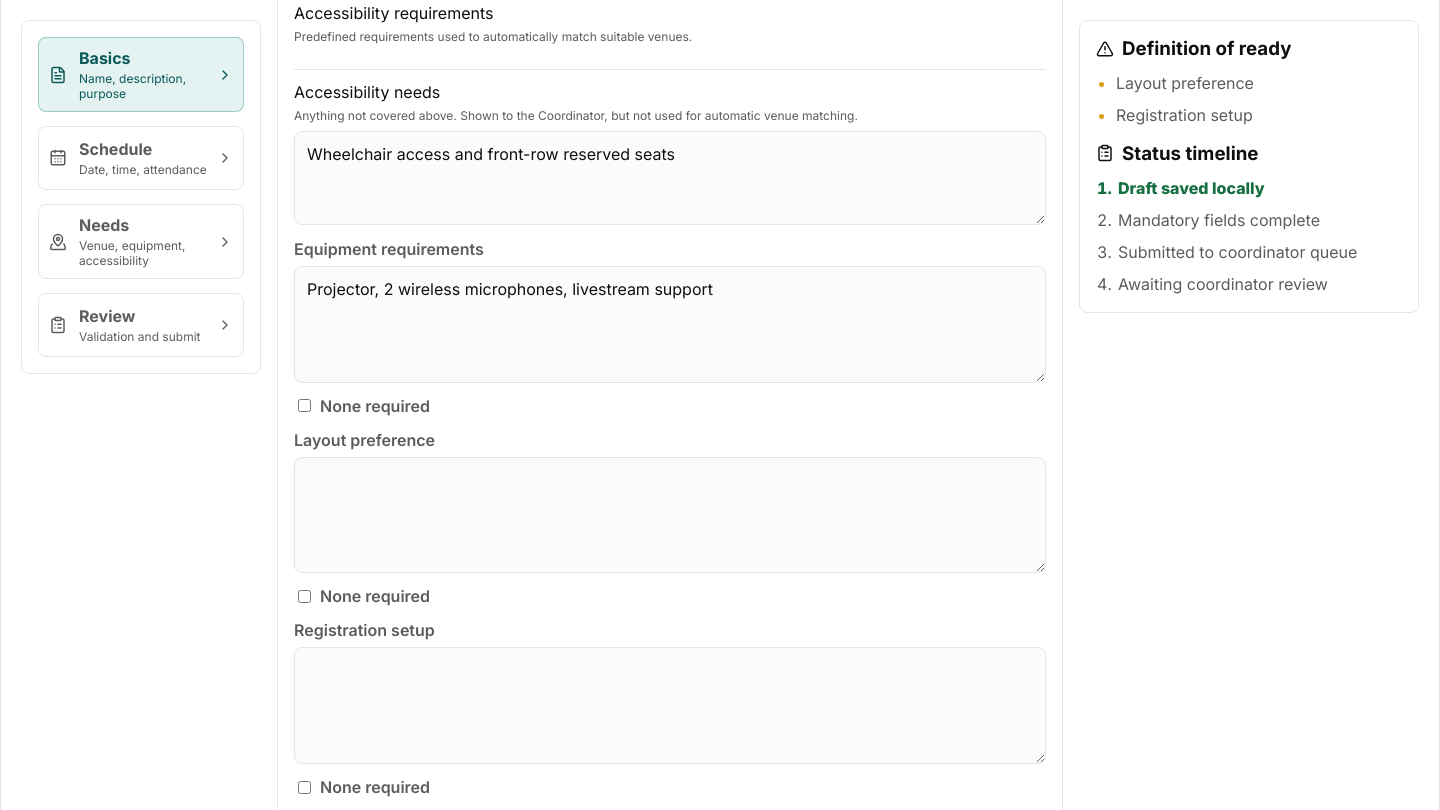
it: API validation errors show all returned fields without claiming success
The width and height of the screenshot is (1440, 810).
(page scrolled)
Click the checkbox labelled "None required" below "Equipment requirements": click(304, 406) [298,399,311,412]
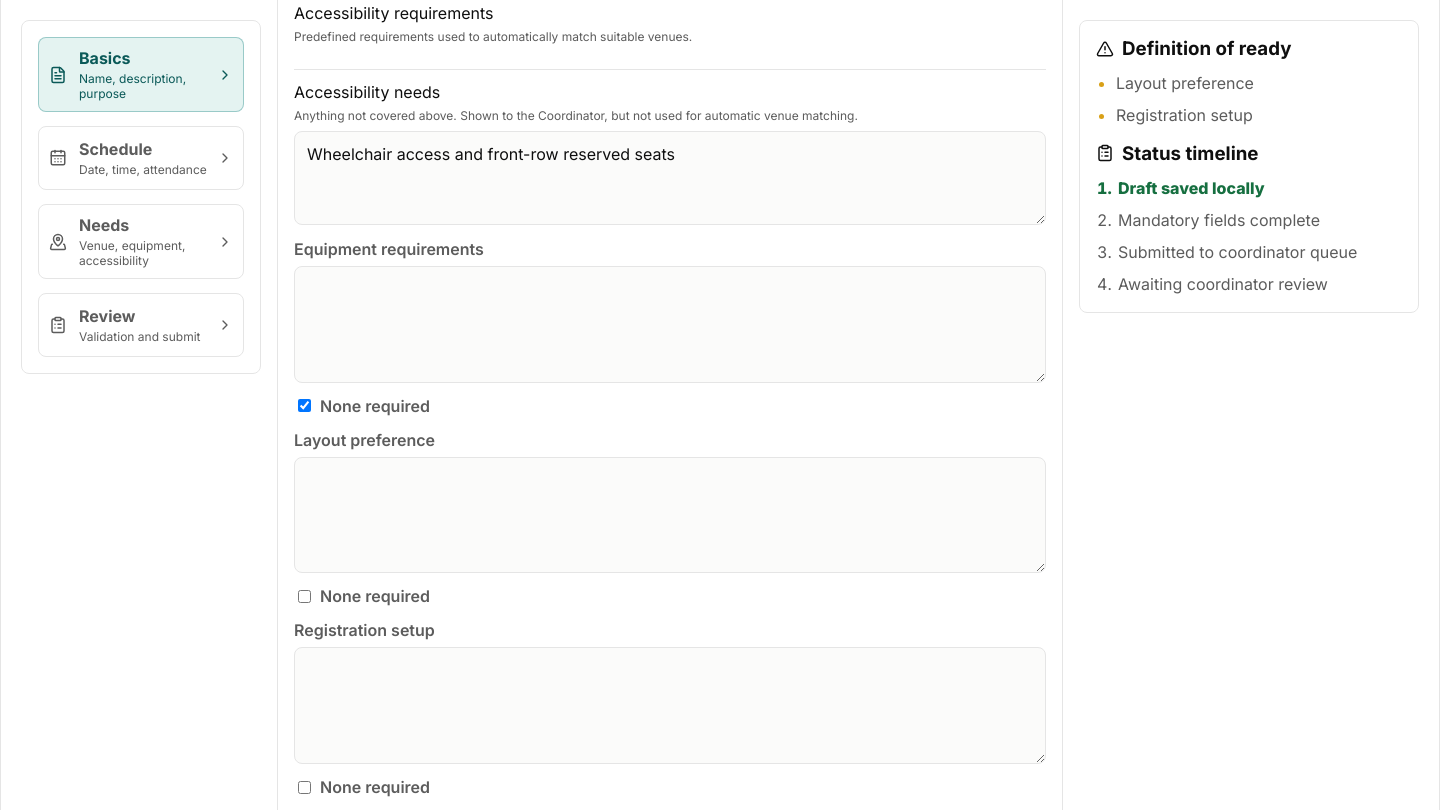
Click the 2nd checkbox labelled "None required": click(304, 596) [298,590,311,603]
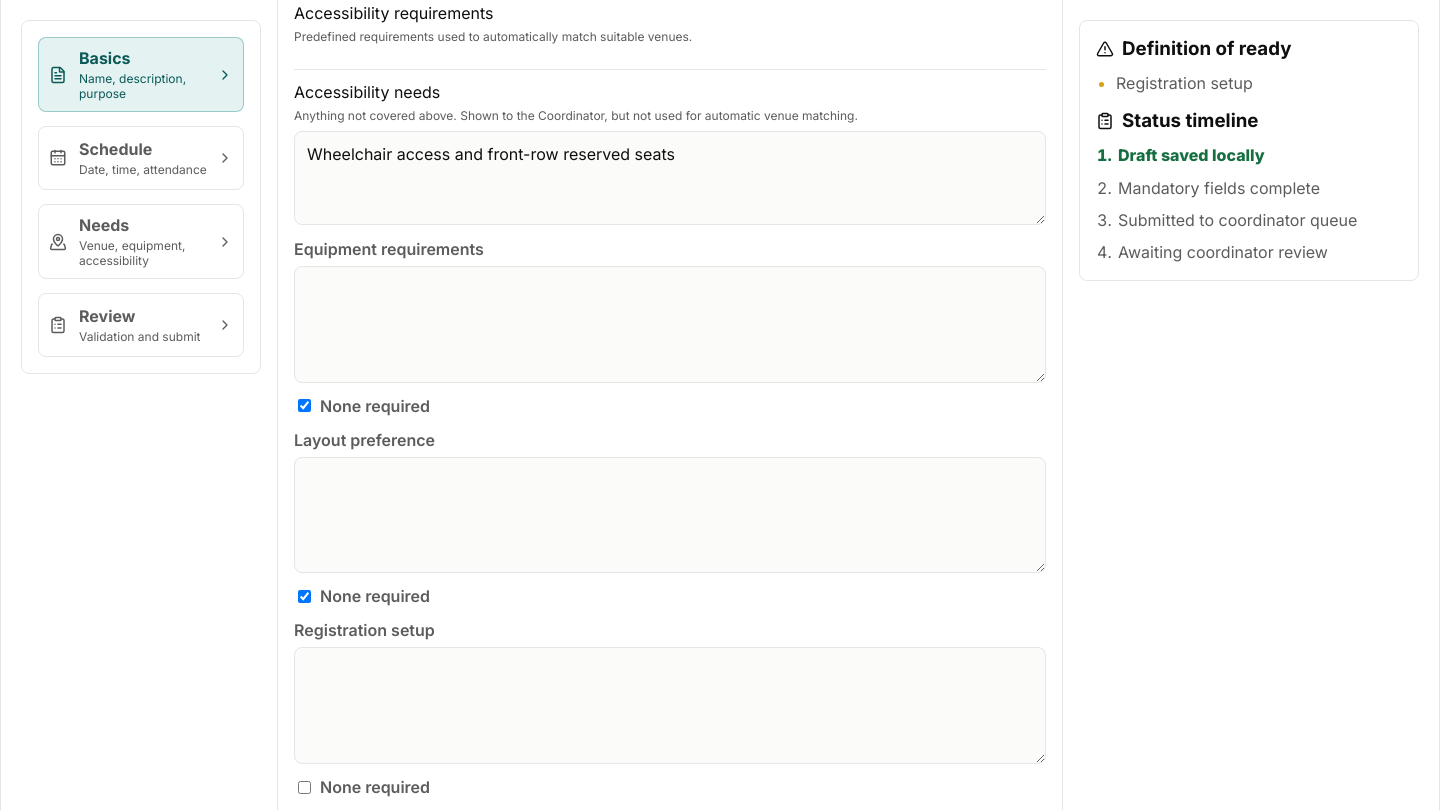
Click the 3rd checkbox labelled "None required": click(304, 787) [298,781,311,794]
(page scrolled)
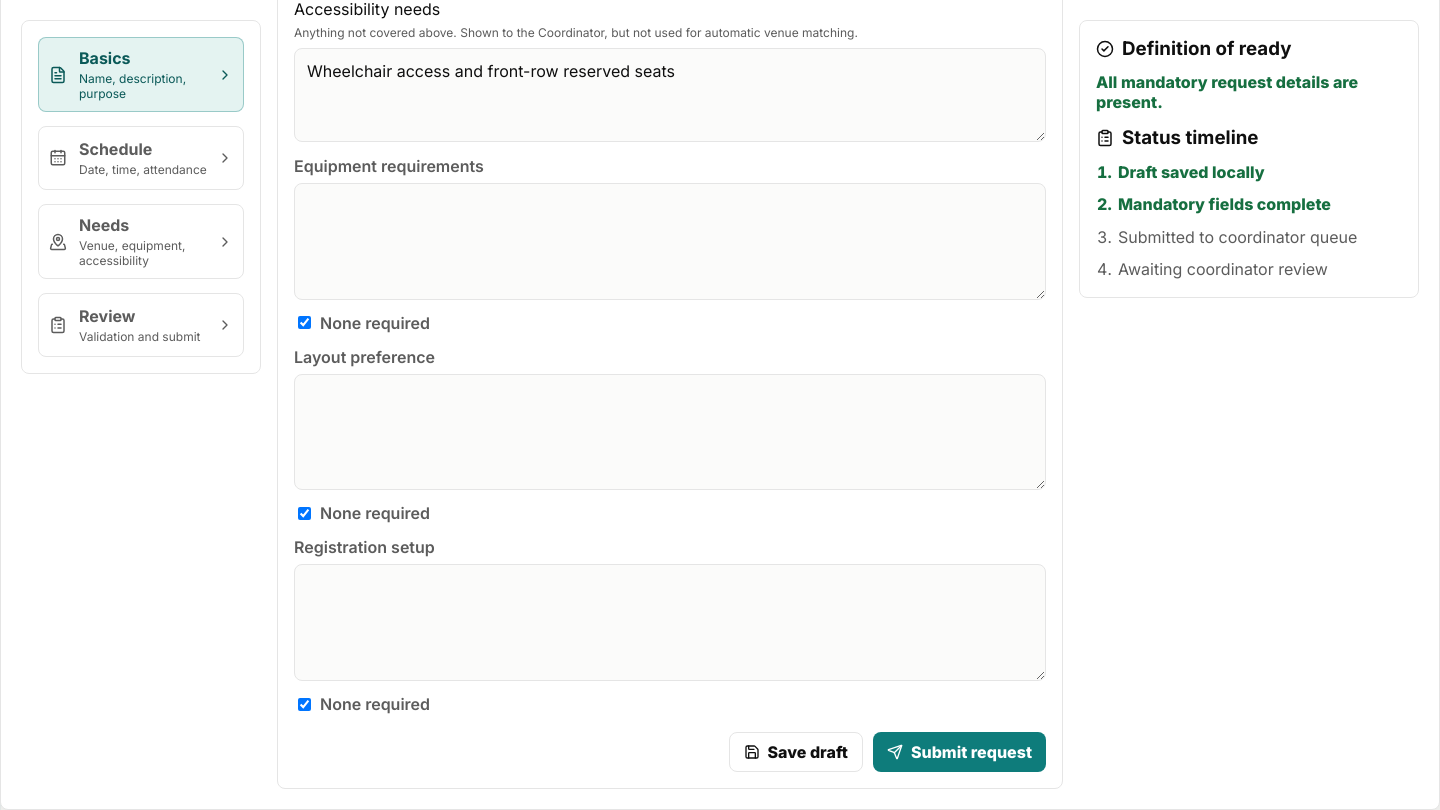
Click the button "Submit request": click(959, 752) [873,732,1046,772]
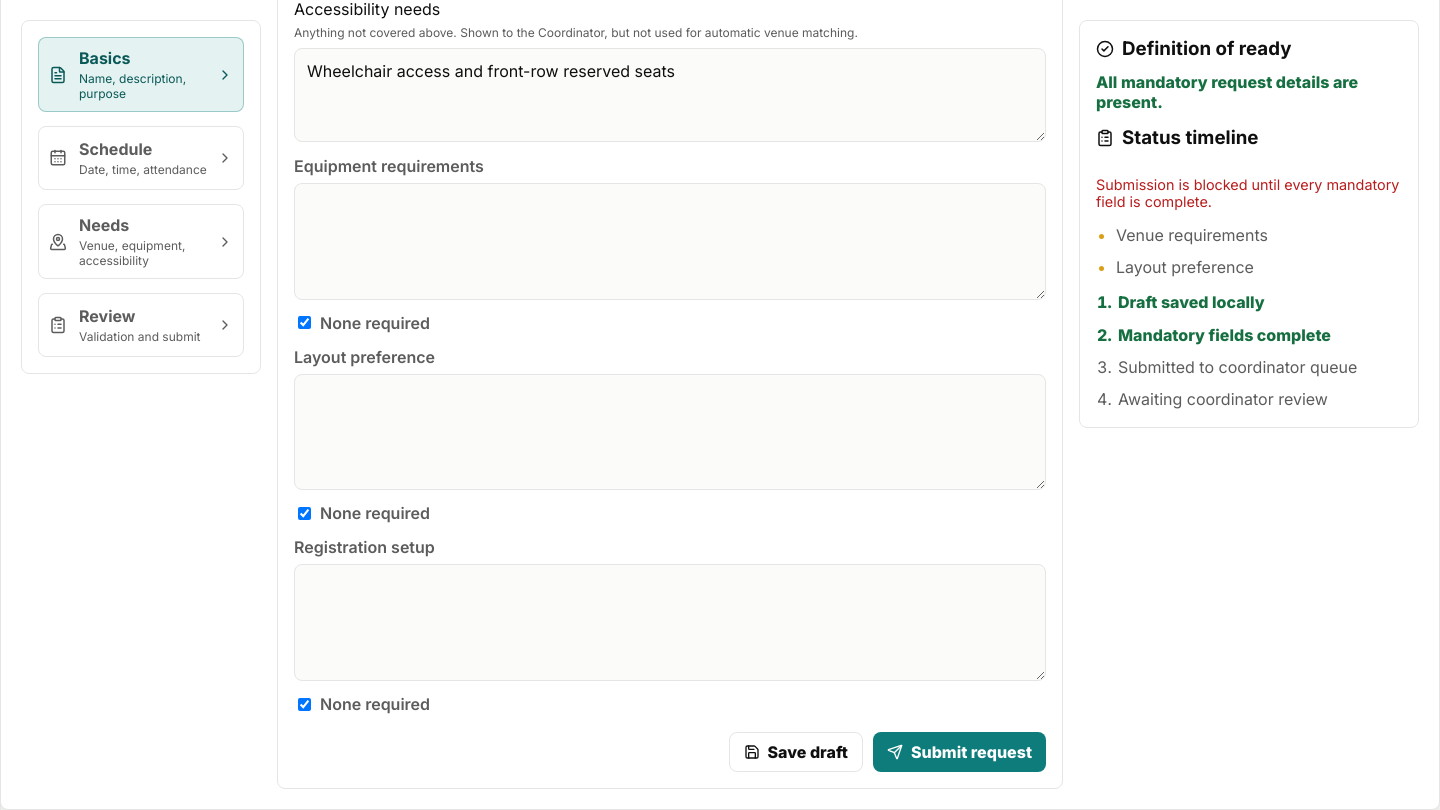
Expected: the message shows "Venue requirements", [1116,225,1268,245]
Expected: the message shows "Layout preference", [1116,257,1254,277]
